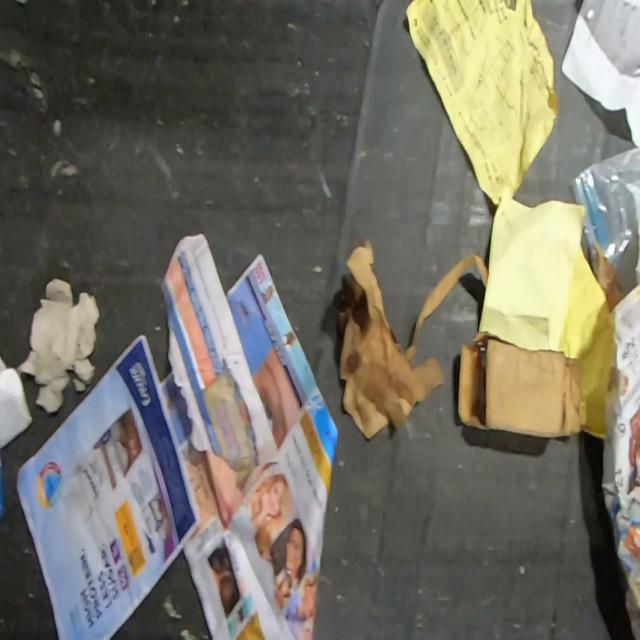cardboard: (457, 331, 583, 440)
soft_plastic: (568, 146, 640, 297)
